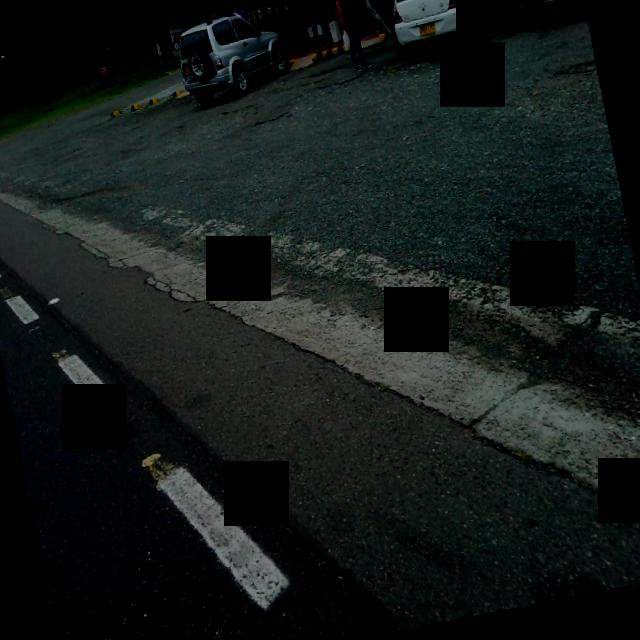DITCH: (0, 51, 640, 640), (0, 92, 640, 640)
